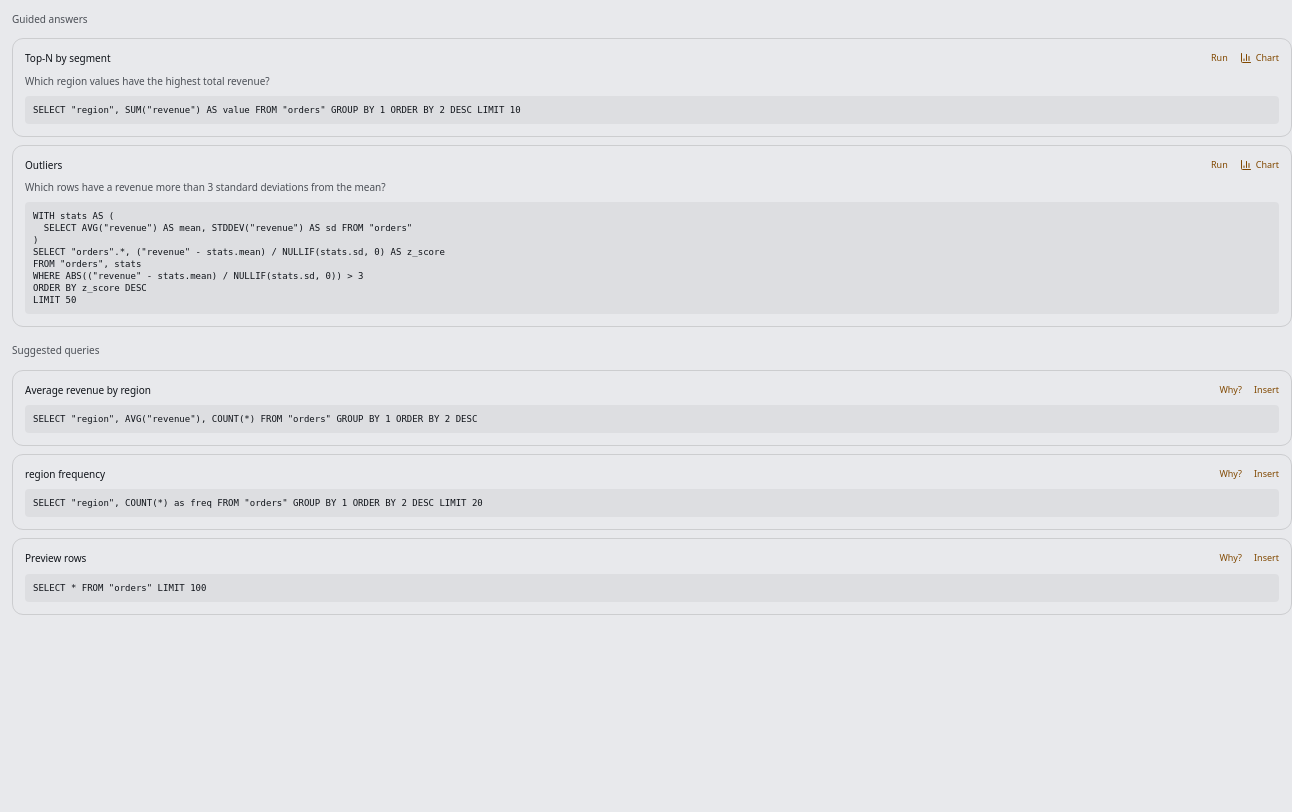
Test case: QuerySuggestions › "Why?" pushes the tooltip explanation into the educational panel
Check: the text "Average revenue by region" is shown, box left=25, top=383, right=151, bottom=397
What coordinates should you click on to do the following:
click the button "Why?" in the row of "Average revenue by region"
I would click on:
 (1231, 390)
Its box is left=1219, top=384, right=1242, bottom=396.
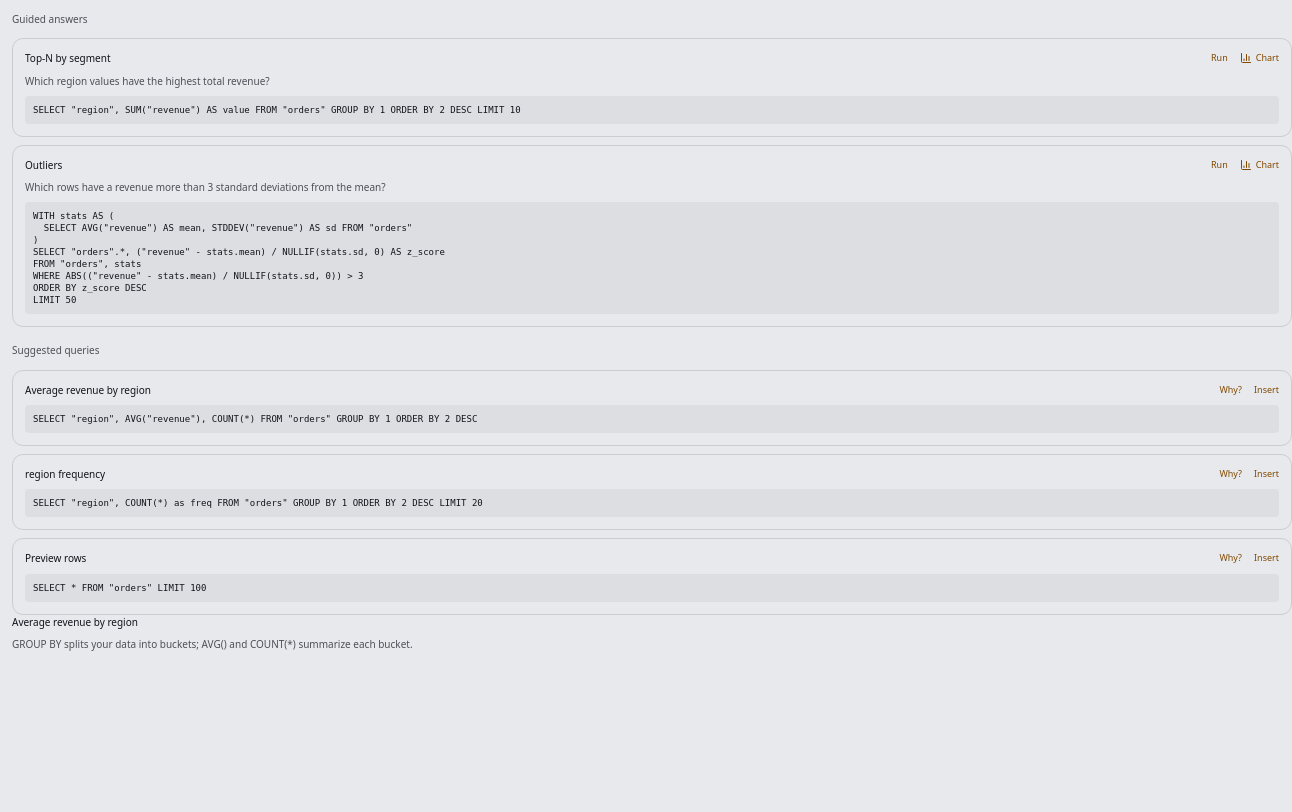
Check: the element with test id "panel" shows "GROUP BY splits your data into buckets", box left=12, top=637, right=413, bottom=651
